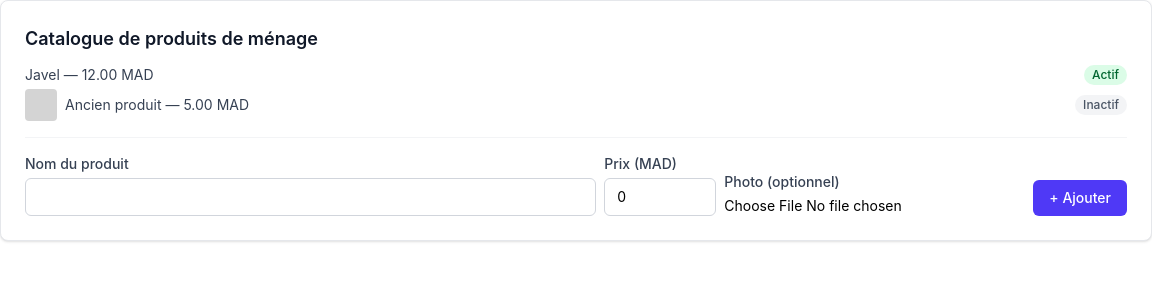
CatalogueProduitsSection › exige un nom
The width and height of the screenshot is (1152, 283).
Click the button "+ Ajouter".
click(1080, 198)  # box [1033, 180, 1127, 216]
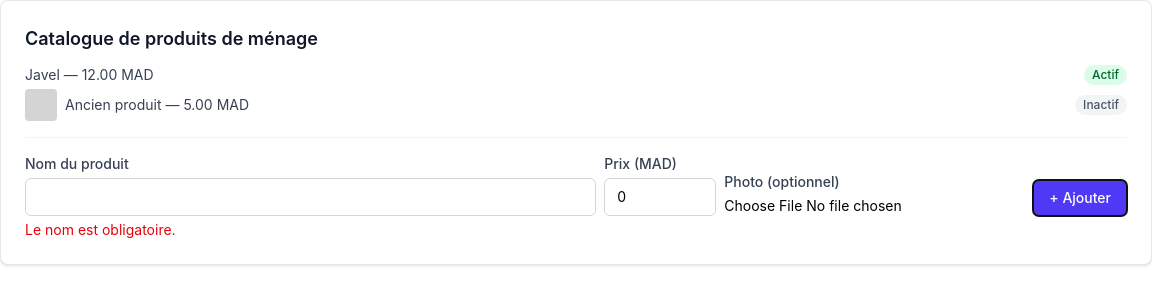
Expected: the text "Le nom est obligatoire." is shown, [25, 221, 176, 238]
